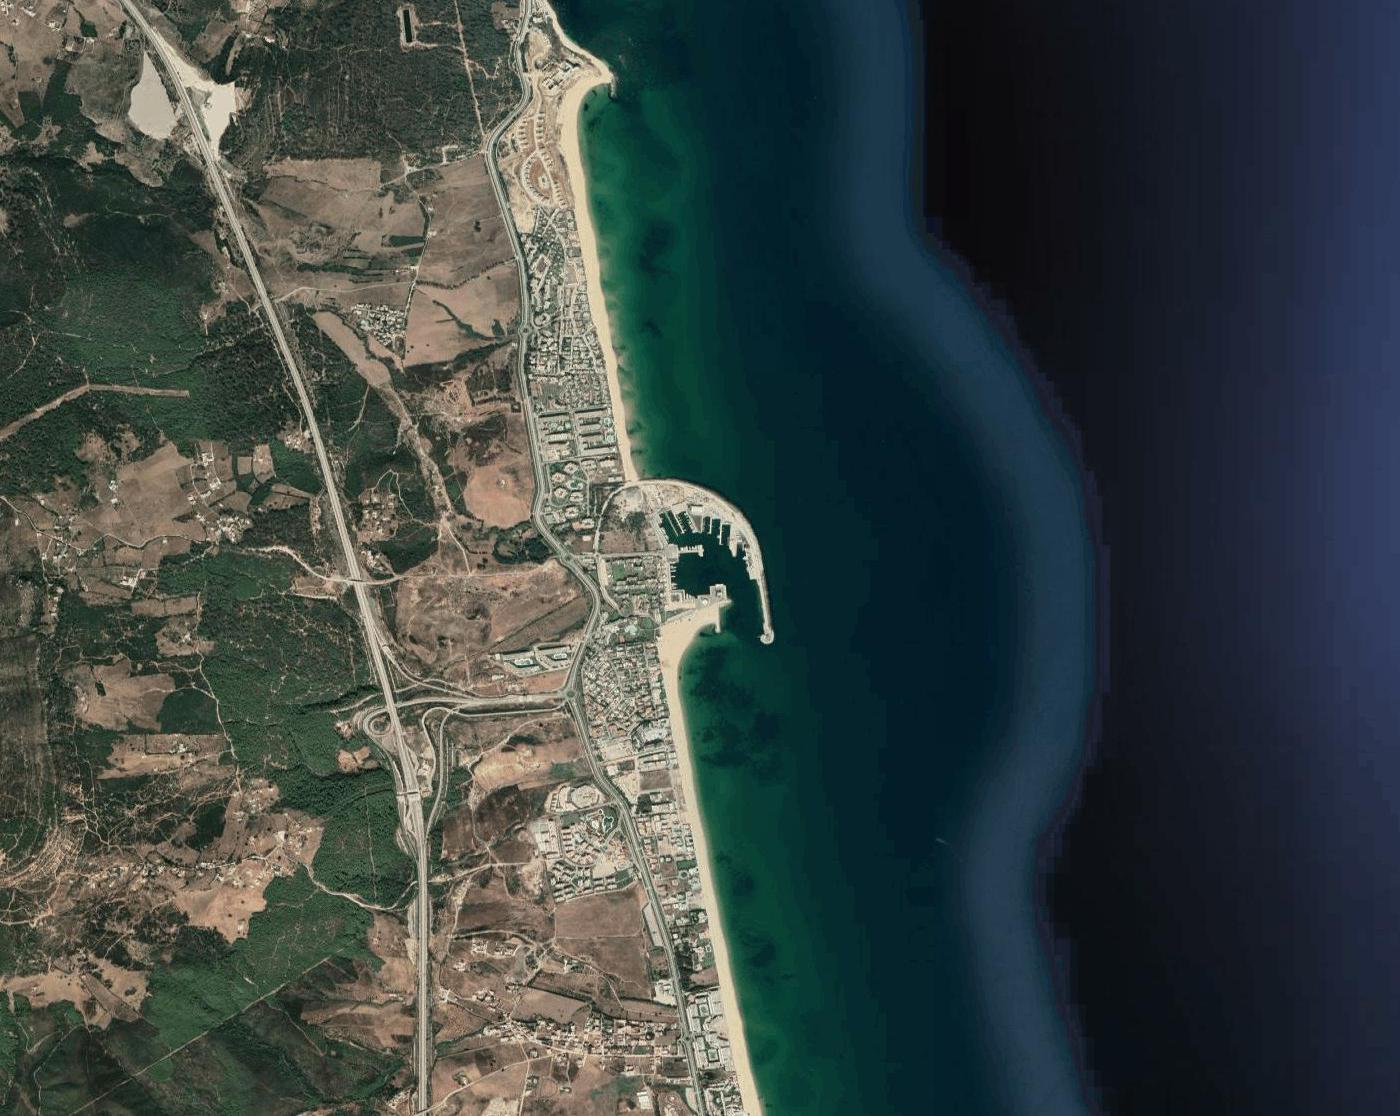harbor: (629, 468, 781, 664)
motorway: (121, 3, 203, 143), (199, 143, 269, 302), (328, 473, 384, 667), (377, 665, 433, 859), (266, 303, 330, 471), (411, 854, 434, 1116)
